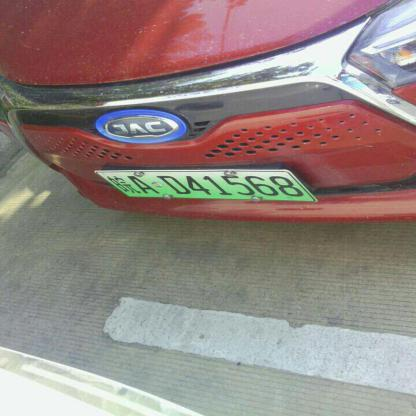lp: (96, 172, 317, 200)
